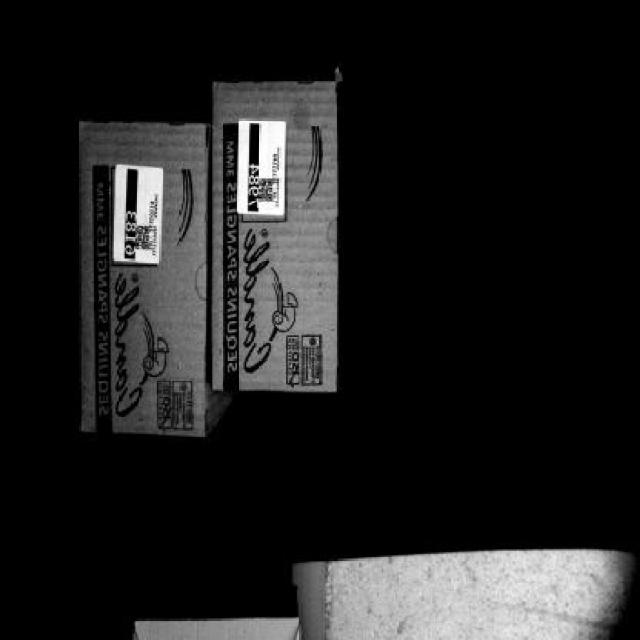cardboxes: (208, 75, 334, 392), (80, 128, 205, 437)
